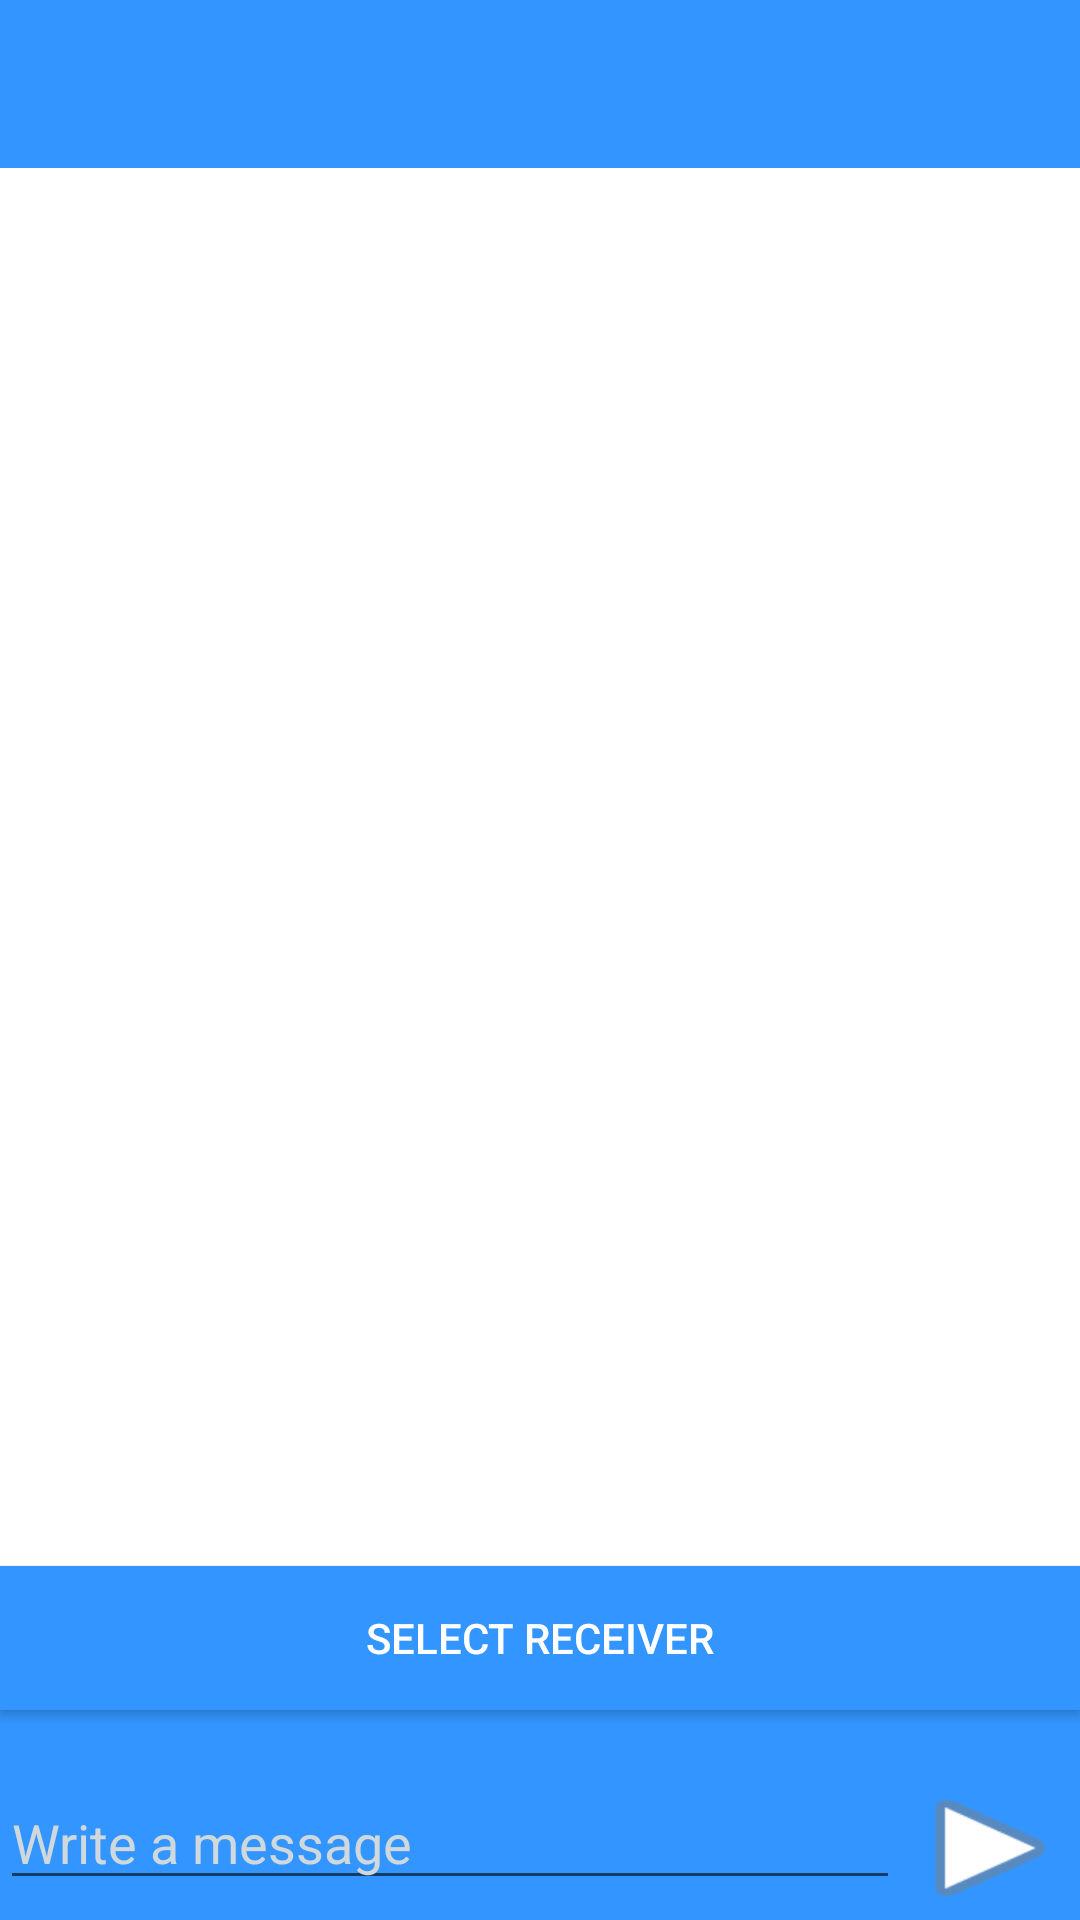

Icons on this 1080px x 1920px Android screen, each with its box as (x1, y1, x2, y2):
play: (935, 1800, 1045, 1896)
